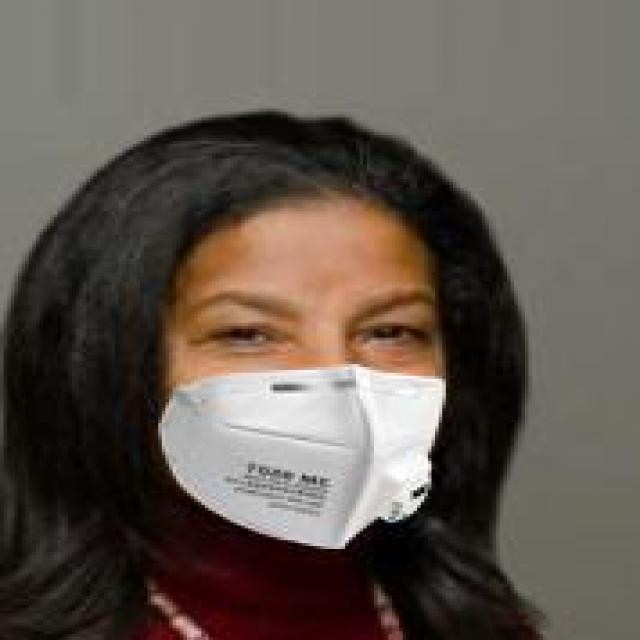mask: (65, 153, 503, 555)
